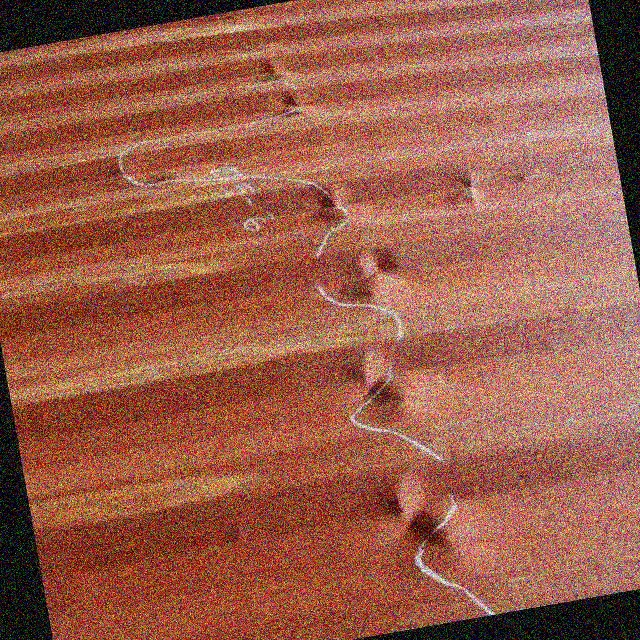Dent: (302, 160, 494, 618), (240, 45, 334, 143), (452, 166, 488, 211), (144, 167, 193, 195)
